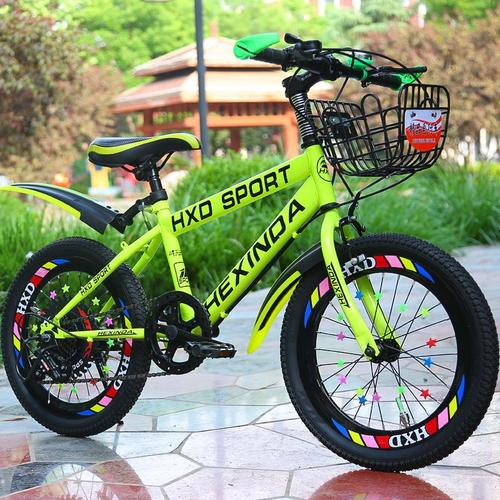单车: (5, 20, 500, 487)
